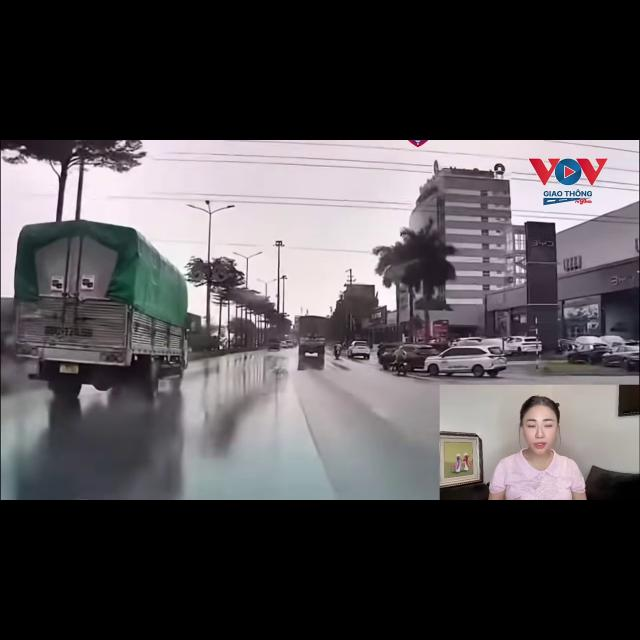car: (424, 346, 506, 377), (378, 344, 438, 371), (602, 345, 639, 370), (567, 343, 610, 364), (504, 336, 541, 354), (347, 341, 370, 359), (377, 342, 404, 357), (451, 337, 482, 346), (268, 339, 280, 350), (286, 340, 294, 348), (280, 340, 288, 348)
truck: (14, 220, 188, 397), (298, 316, 329, 362)
